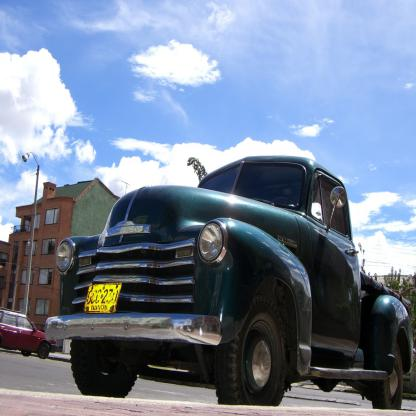Car: (45, 155, 414, 410), (0, 307, 58, 359)
Truck: (45, 155, 414, 410)
